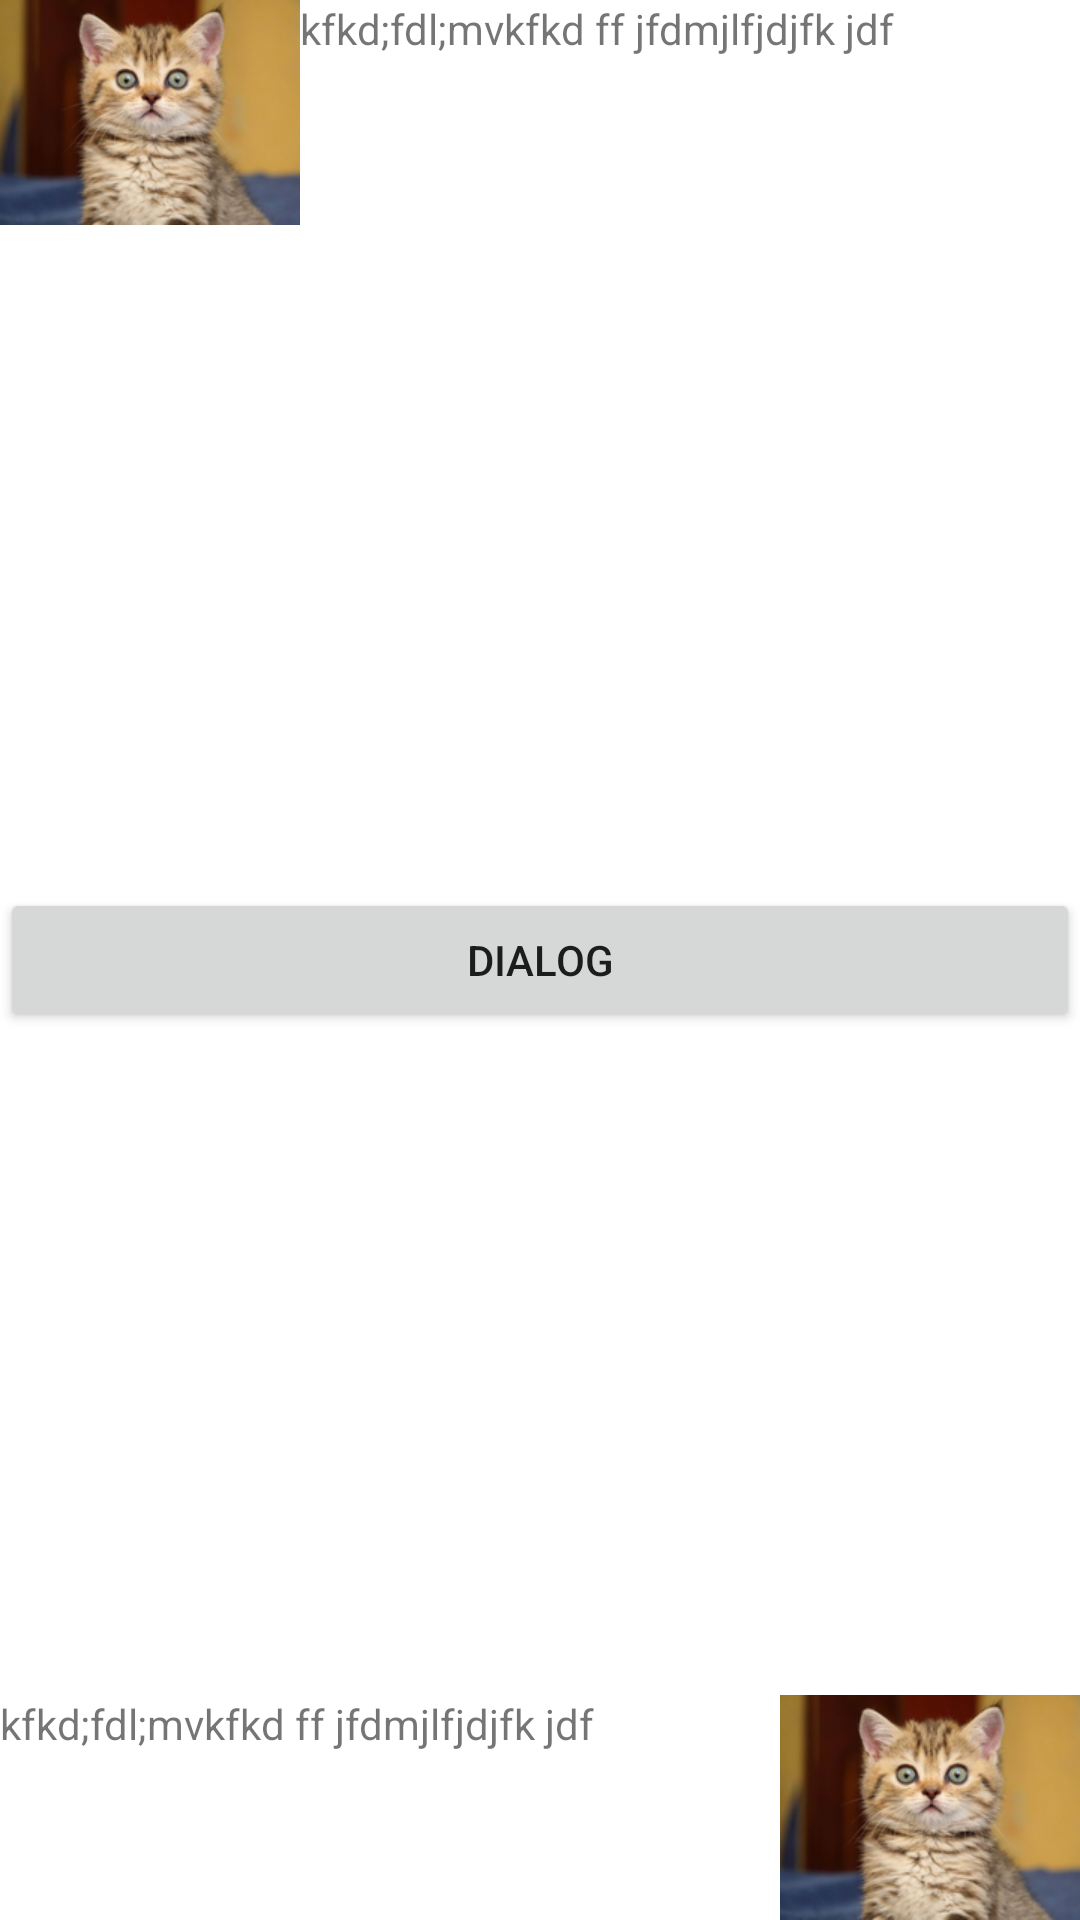

Screen size 1080*1920. Icon name, then its center in pixels as (x=x, y=y):
kotik: (x=150, y=112), (x=930, y=1807)
